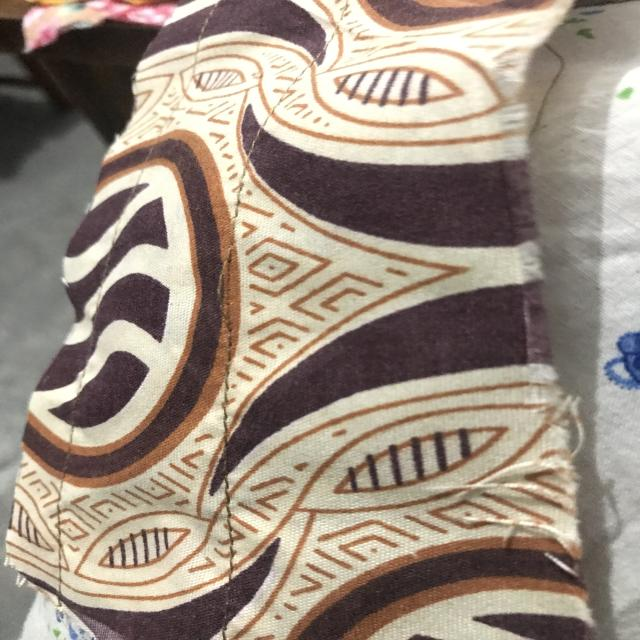good: (212, 395, 243, 521)
skip: (209, 230, 255, 333)
